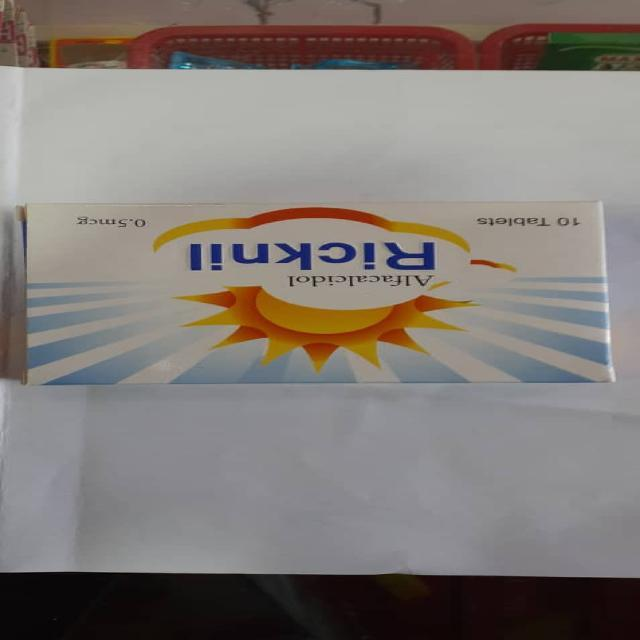drug-name: (186, 240, 437, 276)
